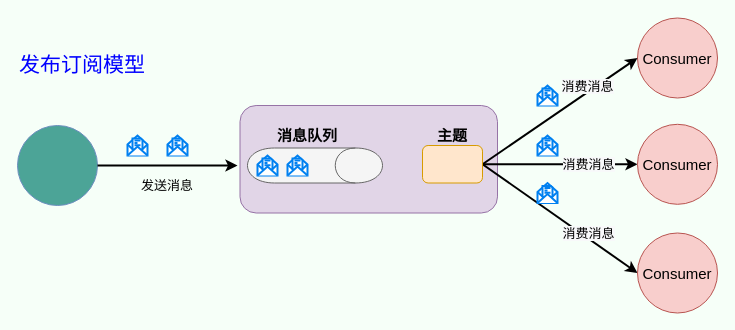
Some shapes in this 735 by 330 pixel diagram are drawn without their labels. Each missing label, with the centre of its shape:
Producer: [57,165]
Topic: [452,163]
